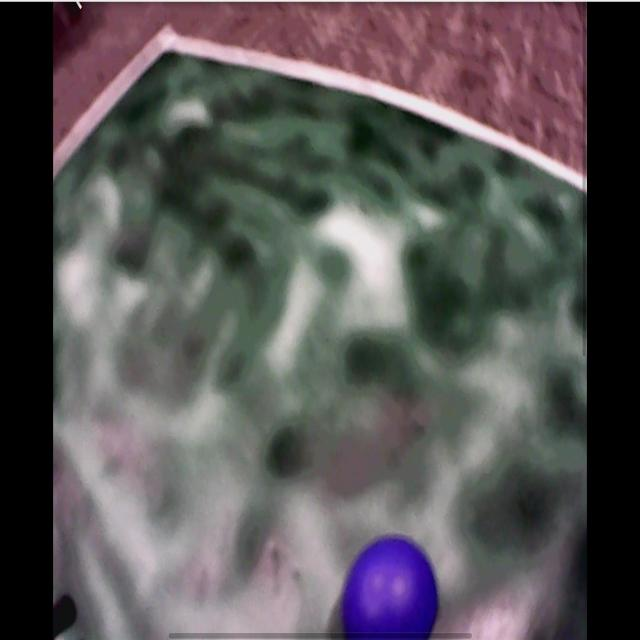ball: (341, 536, 441, 639)
